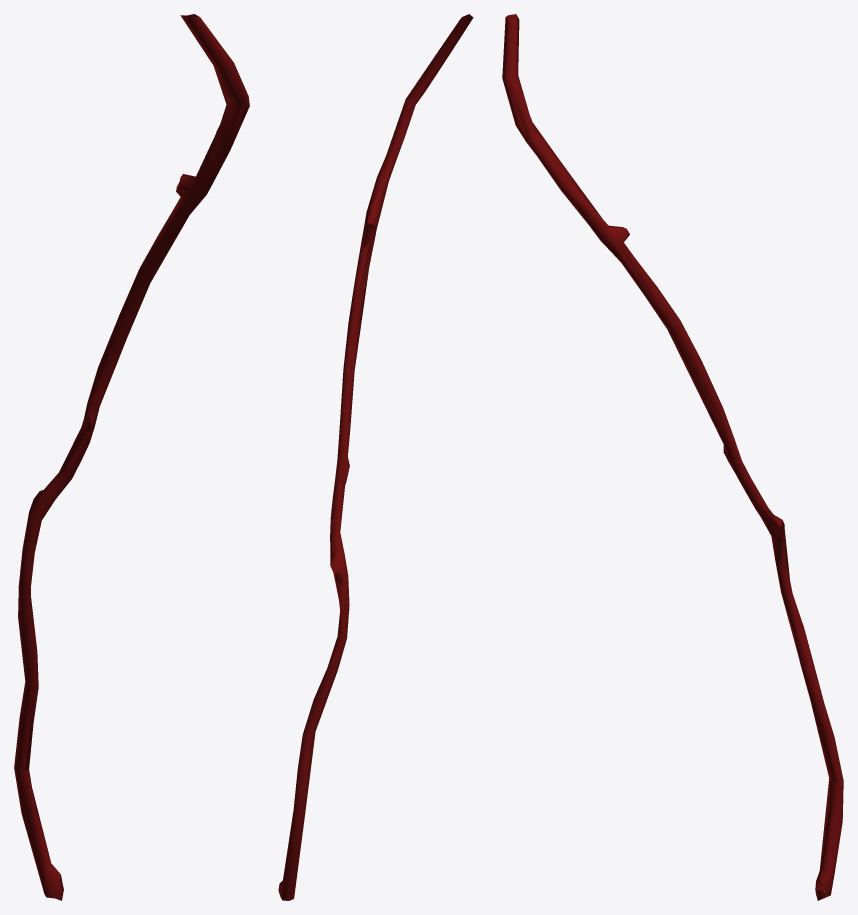
File: L mediana.fbx
3 renders of one model, left to right at view 1: azimuth 30°, elevation 25°; view 2: azimuth 150°, elevation 25°; view 3: azimuth 270°, elevation 25°, orthographic. The views are drawn at different scales.
Parts seen in each view (by area): view 1: L mediana low, L mediana; view 2: L mediana, L mediana low; view 3: L mediana, L mediana low.
Part boxes in pixels (x1,y1,x2,y2): L mediana low: [16, 15, 248, 897]; L mediana: [14, 14, 249, 900]; L mediana: [278, 14, 473, 900]; L mediana low: [278, 14, 470, 899]; L mediana: [502, 14, 843, 900]; L mediana low: [503, 14, 838, 900].
Bounding box in the file's own units: 2.08 × 25.26 × 9.06.
